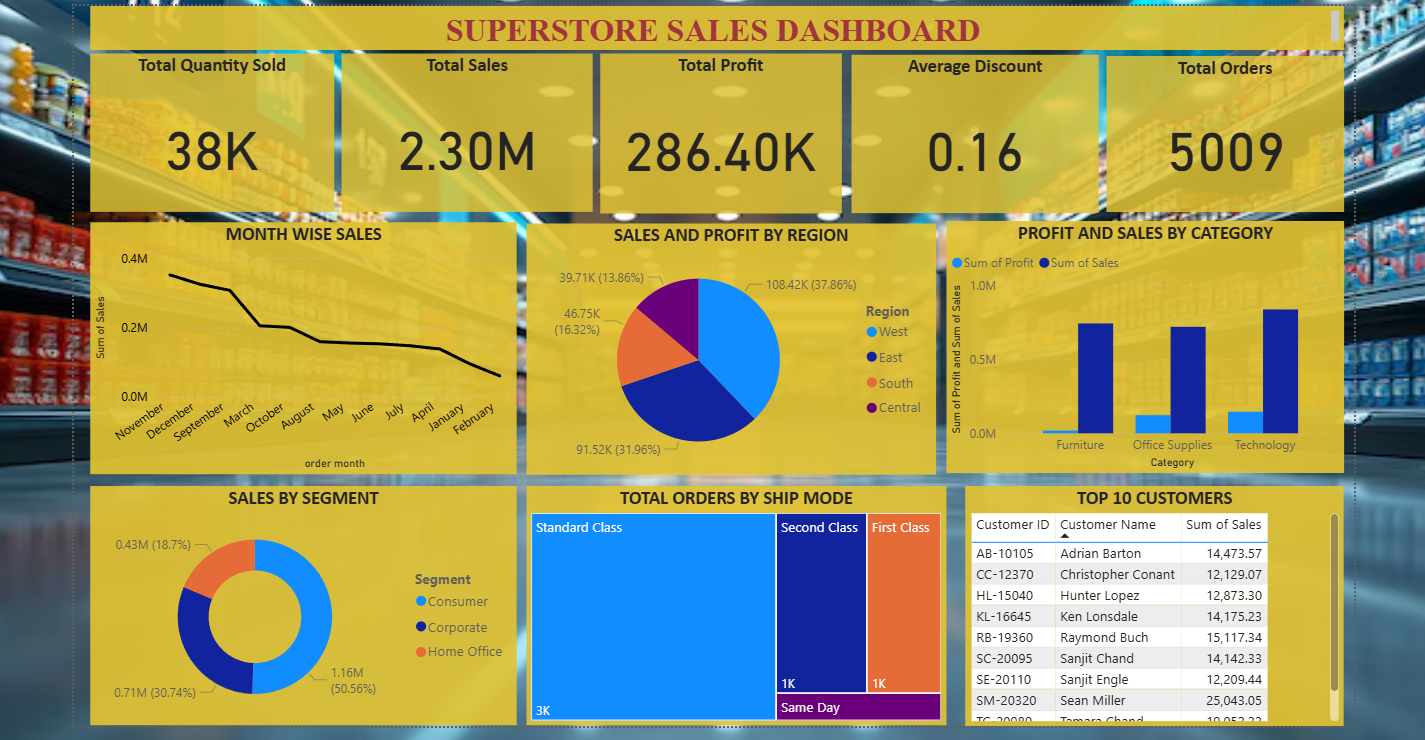

The page's visual inventory and layout, read from the dashboard file:
{"tool":"powerbi","page":{"name":"Page 1","canvas":[1280,720],"ordinal":0},"visuals":[{"type":"card","title":"Total Sales","fields":{"Values":["measuress.total_sales"]},"box":[267.5,47.5,251.2,158.8],"z":0},{"type":"card","title":"Total Profit","fields":{"Values":["measuress.total_profit"]},"box":[526.2,47.5,241.2,160],"z":1000},{"type":"card","title":"Total Quantity Sold","fields":{"Values":["measuress.total_quantity_sold"]},"box":[16.2,47.5,243.8,158.8],"z":2000},{"type":"card","title":"Average Discount","fields":{"Values":["measuress.average_discount"]},"box":[777.5,48.8,247.5,158.8],"z":3000},{"type":"lineChart","title":"MONTH WISE SALES","fields":{"Y":["Sample - Superstore.Sales"],"Category":["Sample - Superstore.order month"]},"box":[16.3,216.3,426.7,252.3],"z":4000},{"type":"clusteredColumnChart","title":"PROFIT AND SALES BY CATEGORY","fields":{"Category":["Sample - Superstore.Category Hierarchy.Category","Sample - Superstore.Category Hierarchy.Sub-Category"],"Y":["Sample - Superstore.Profit","Sample - Superstore.Sales"]},"box":[872.1,215.1,397.7,252.3],"z":5000},{"type":"donutChart","title":"SALES BY SEGMENT","fields":{"Category":["Sample - Superstore.Segment"],"Y":["Sample - Superstore.Sales"]},"box":[16.3,480.2,426.7,239.5],"z":6000},{"type":"tableEx","title":"TOP 10 CUSTOMERS","fields":{"Values":["Sample - Superstore.Customer ID","Sample - Superstore.Customer Name","Sample - Superstore.Sales"]},"box":[891.2,480,378.8,240],"z":7000},{"type":"pieChart","title":"SALES AND PROFIT BY REGION","fields":{"Category":["Sample - Superstore.Region"],"Y":["measuress.total_profit"]},"box":[452.3,217.4,409.3,251.2],"z":8000},{"type":"card","title":"Total Orders","fields":{"Values":["measuress.total orders"]},"box":[1032.5,50,237.5,156.2],"z":9000},{"type":"textbox","box":[16.2,0,1253.8,43.8],"z":10000},{"type":"treemap","title":"TOTAL ORDERS BY SHIP MODE","fields":{"Group":["Sample - Superstore.Ship Mode"],"Values":["measuress.total orders"]},"box":[452.3,480.2,419.8,239.5],"z":11000}]}

Visuals, with their boxes in screenshot pixels (x1, y1, x2, y2):
"Total Sales" card: locate(341, 48, 595, 209)
"Total Profit" card: locate(603, 48, 847, 210)
"Total Quantity Sold" card: locate(87, 48, 333, 209)
"Average Discount" card: locate(857, 49, 1107, 210)
"MONTH WISE SALES" lineChart: locate(87, 219, 519, 474)
"PROFIT AND SALES BY CATEGORY" clusteredColumnChart: locate(953, 218, 1355, 473)
"SALES BY SEGMENT" donutChart: locate(87, 486, 519, 728)
"TOP 10 CUSTOMERS" tableEx: locate(972, 486, 1355, 728)
"SALES AND PROFIT BY REGION" pieChart: locate(528, 220, 942, 474)
"Total Orders" card: locate(1115, 51, 1355, 209)
textbox: locate(87, 0, 1355, 44)
"TOTAL ORDERS BY SHIP MODE" treemap: locate(528, 486, 953, 728)
